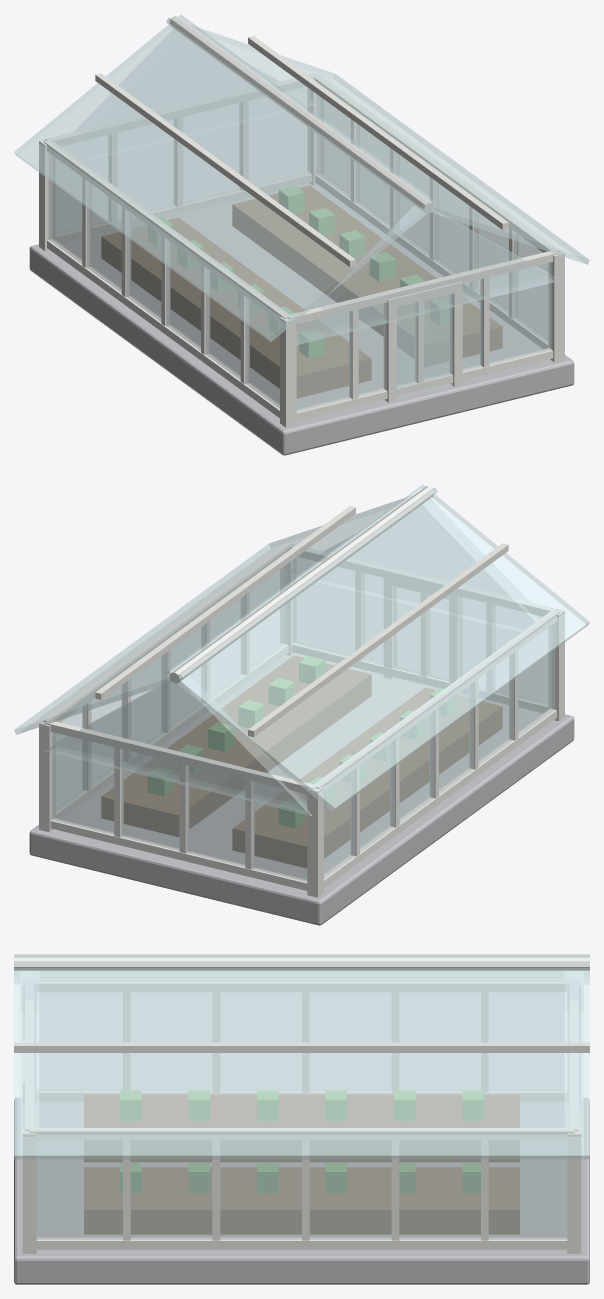
Rendered from ASTX_BUILDING_GREENHOUSE.glb.
The picture shows the model from 3 angles, top to bottom: view 1: azimuth 30°, elevation 25°; view 2: azimuth 150°, elevation 25°; view 3: azimuth 270°, elevation 25°; orthographic projection. The views are drawn at different scales.
Parts seen in each view (by area): view 1: ASTX_BUILDING_GREENHOUSE_roofW, ASTX_BUILDING_GREENHOUSE_curb, ASTX_BUILDING_GREENHOUSE_glassS, ASTX_BUILDING_GREENHOUSE_glassW, ASTX_BUILDING_GREENHOUSE_gableS, ASTX_BUILDING_GREENHOUSE_roofE, ASTX_BUILDING_GREENHOUSE_bed-1.1, ASTX_BUILDING_GREENHOUSE_bed1.1, ASTX_BUILDING_GREENHOUSE_glassN, ASTX_BUILDING_GREENHOUSE_glassE, ASTX_BUILDING_GREENHOUSE_gableN, ASTX_BUILDING_GREENHOUSE_door (+39 smaller); view 2: ASTX_BUILDING_GREENHOUSE_roofW, ASTX_BUILDING_GREENHOUSE_curb, ASTX_BUILDING_GREENHOUSE_glassN, ASTX_BUILDING_GREENHOUSE_glassW, ASTX_BUILDING_GREENHOUSE_gableN, ASTX_BUILDING_GREENHOUSE_roofE, ASTX_BUILDING_GREENHOUSE_bed1.1, ASTX_BUILDING_GREENHOUSE_bed-1.1, ASTX_BUILDING_GREENHOUSE_glassE, ASTX_BUILDING_GREENHOUSE_glassS, ASTX_BUILDING_GREENHOUSE_gableS, ASTX_BUILDING_GREENHOUSE_ridge (+38 smaller); view 3: ASTX_BUILDING_GREENHOUSE_roofE, ASTX_BUILDING_GREENHOUSE_glassE, ASTX_BUILDING_GREENHOUSE_glassW, ASTX_BUILDING_GREENHOUSE_curb, ASTX_BUILDING_GREENHOUSE_bed1.1, ASTX_BUILDING_GREENHOUSE_bed-1.1, ASTX_BUILDING_GREENHOUSE_roofW, ASTX_BUILDING_GREENHOUSE_ridge, ASTX_BUILDING_GREENHOUSE_railE0.45, ASTX_BUILDING_GREENHOUSE_railE2.0, ASTX_BUILDING_GREENHOUSE_railW2.0, ASTX_BUILDING_GREENHOUSE_purlin1.28 (+28 smaller).
Boxes of the visible parts, box(x1,y1,x2,y2) form: ASTX_BUILDING_GREENHOUSE_roofW: box(14, 14, 437, 341); ASTX_BUILDING_GREENHOUSE_curb: box(29, 183, 574, 455); ASTX_BUILDING_GREENHOUSE_glassS: box(296, 262, 551, 411); ASTX_BUILDING_GREENHOUSE_glassW: box(49, 156, 279, 408); ASTX_BUILDING_GREENHOUSE_gableS: box(292, 205, 560, 345); ASTX_BUILDING_GREENHOUSE_roofE: box(166, 18, 589, 264); ASTX_BUILDING_GREENHOUSE_bed-1.1: box(101, 218, 371, 398); ASTX_BUILDING_GREENHOUSE_bed1.1: box(232, 185, 502, 366); ASTX_BUILDING_GREENHOUSE_glassN: box(56, 87, 309, 233); ASTX_BUILDING_GREENHOUSE_glassE: box(320, 97, 547, 339); ASTX_BUILDING_GREENHOUSE_gableN: box(74, 29, 317, 161); ASTX_BUILDING_GREENHOUSE_door: box(397, 294, 453, 398); ASTX_BUILDING_GREENHOUSE_roofW: box(166, 484, 589, 811); ASTX_BUILDING_GREENHOUSE_curb: box(29, 653, 574, 925); ASTX_BUILDING_GREENHOUSE_glassN: box(52, 732, 307, 881); ASTX_BUILDING_GREENHOUSE_glassW: box(324, 626, 554, 878); ASTX_BUILDING_GREENHOUSE_gableN: box(43, 675, 311, 815); ASTX_BUILDING_GREENHOUSE_roofE: box(14, 488, 437, 734); ASTX_BUILDING_GREENHOUSE_bed1.1: box(101, 655, 371, 836); ASTX_BUILDING_GREENHOUSE_bed-1.1: box(232, 688, 502, 868); ASTX_BUILDING_GREENHOUSE_glassE: box(56, 567, 283, 809); ASTX_BUILDING_GREENHOUSE_glassS: box(294, 557, 547, 703); ASTX_BUILDING_GREENHOUSE_gableS: box(286, 499, 529, 631); ASTX_BUILDING_GREENHOUSE_ridge: box(169, 486, 434, 683); ASTX_BUILDING_GREENHOUSE_roofE: box(14, 954, 589, 1159); ASTX_BUILDING_GREENHOUSE_glassE: box(36, 1140, 567, 1239); ASTX_BUILDING_GREENHOUSE_glassW: box(39, 992, 564, 1089); ASTX_BUILDING_GREENHOUSE_curb: box(14, 1098, 589, 1284); ASTX_BUILDING_GREENHOUSE_bed1.1: box(84, 1167, 519, 1234); ASTX_BUILDING_GREENHOUSE_bed-1.1: box(84, 1095, 519, 1161); ASTX_BUILDING_GREENHOUSE_roofW: box(14, 961, 589, 984); ASTX_BUILDING_GREENHOUSE_ridge: box(14, 957, 589, 970); ASTX_BUILDING_GREENHOUSE_railE0.45: box(36, 1237, 567, 1249); ASTX_BUILDING_GREENHOUSE_railE2.0: box(29, 1128, 574, 1139); ASTX_BUILDING_GREENHOUSE_railW2.0: box(30, 980, 573, 991); ASTX_BUILDING_GREENHOUSE_purlin1.28: box(14, 1042, 589, 1052).
Size of the model in its own units: 5.39 by 3.51 by 7.4.
